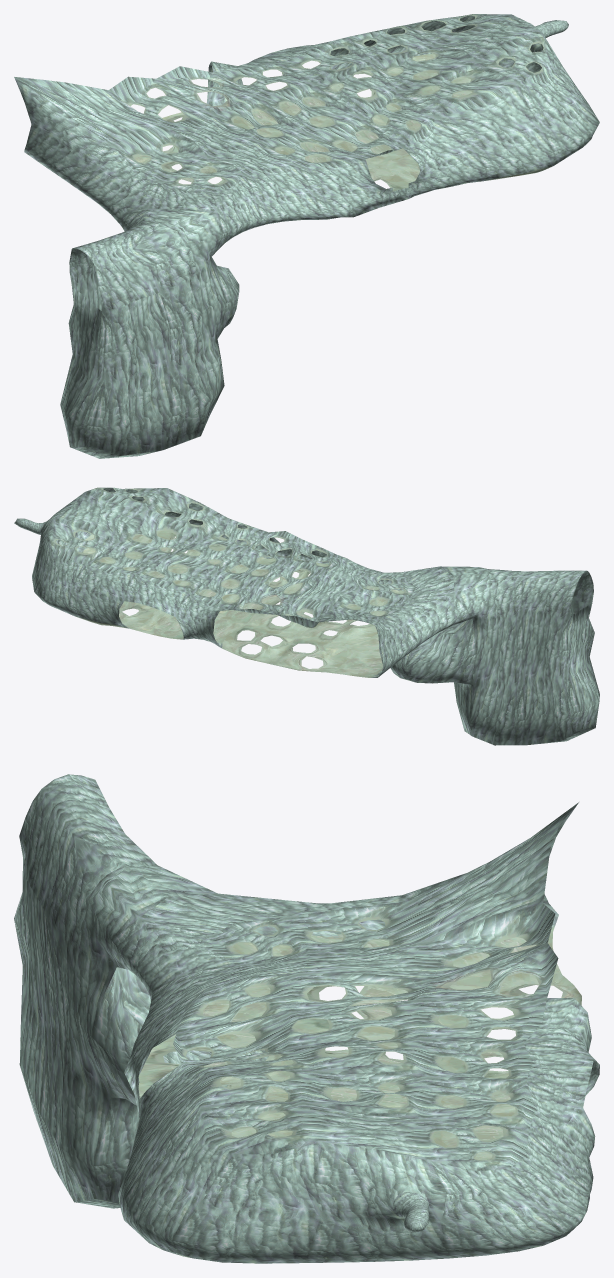
The model's file is TROLLHOLE02_PS-MAINCAVE01.fbx.
3 renders of one model, top to bottom at view 1: azimuth 30°, elevation 25°; view 2: azimuth 150°, elevation 25°; view 3: azimuth 270°, elevation 25°, orthographic. The views are drawn at different scales.
Parts seen in each view (by area): view 1: TROLLHOLE02_PS-MAINCAVE01; view 2: TROLLHOLE02_PS-MAINCAVE01; view 3: TROLLHOLE02_PS-MAINCAVE01.
Part boxes in pixels (left/top/right/bottom): TROLLHOLE02_PS-MAINCAVE01: left=14, top=14, right=599, bottom=458; TROLLHOLE02_PS-MAINCAVE01: left=14, top=487, right=599, bottom=745; TROLLHOLE02_PS-MAINCAVE01: left=14, top=774, right=599, bottom=1263.
Bounding box in the file's own units: 843733 × 339545 × 448450.
9 materials, 9 textured.
